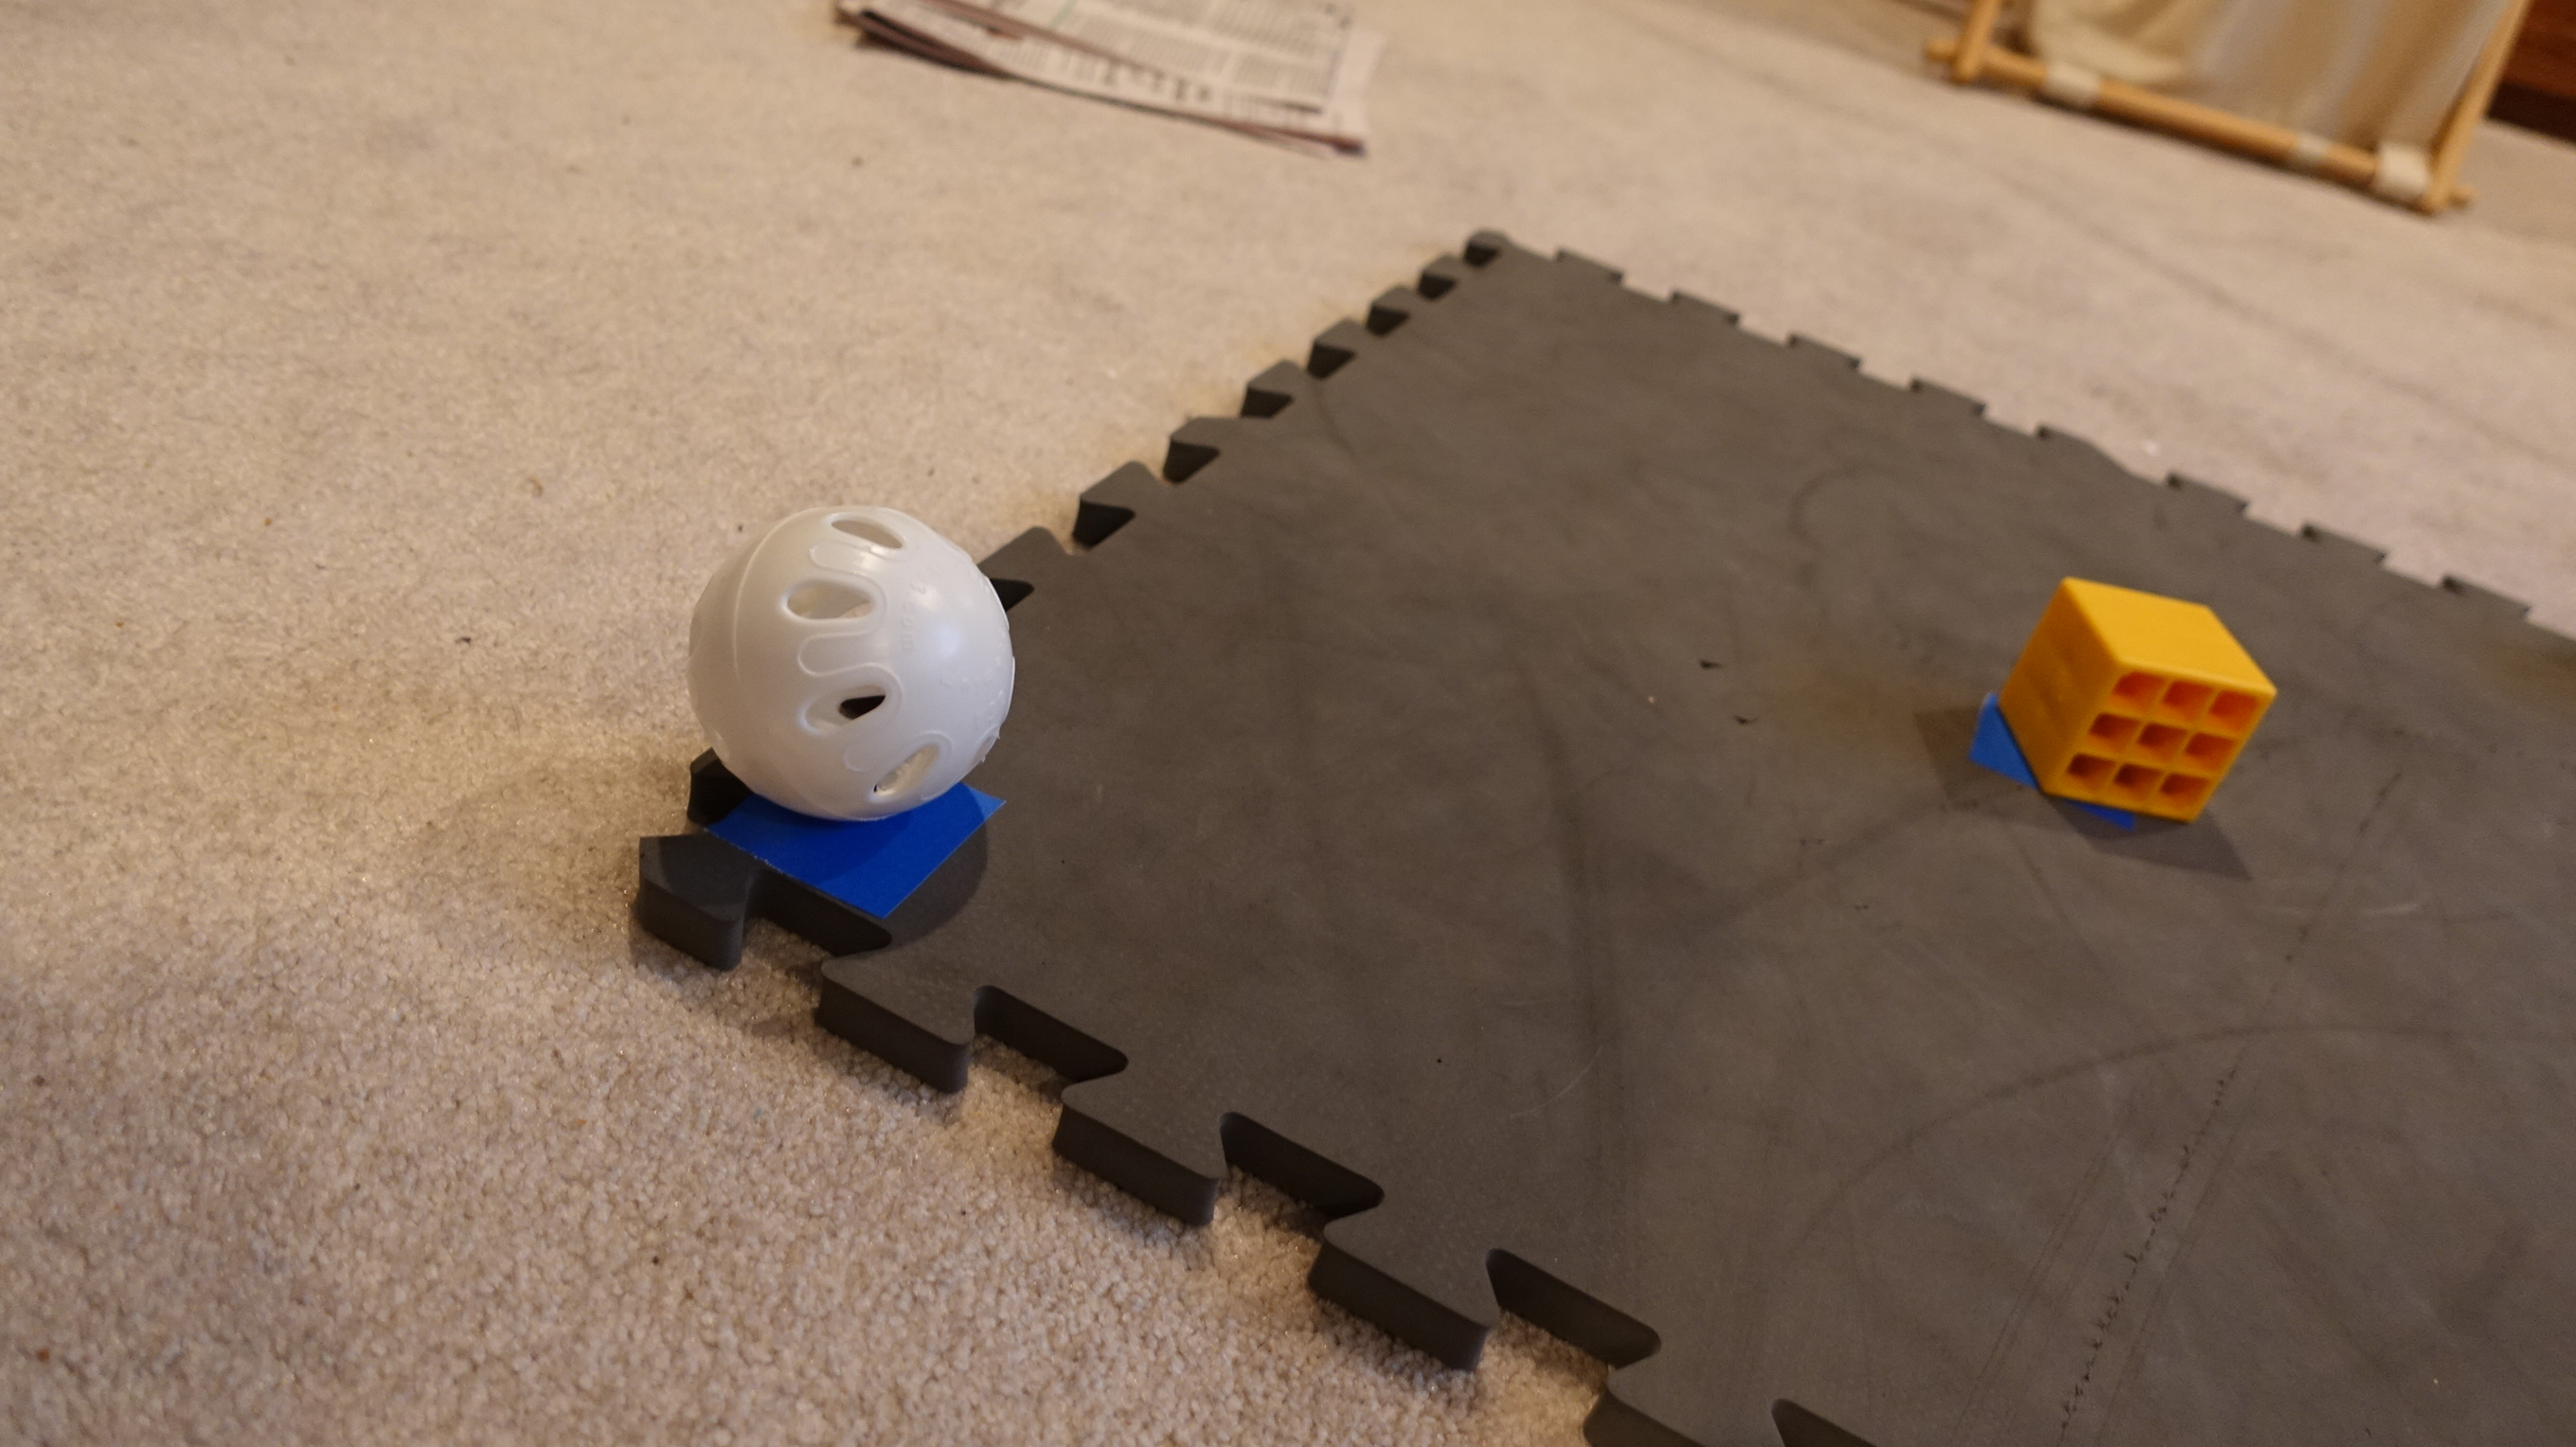gold: (1994, 566, 2282, 828)
silver: (681, 497, 1023, 835)
